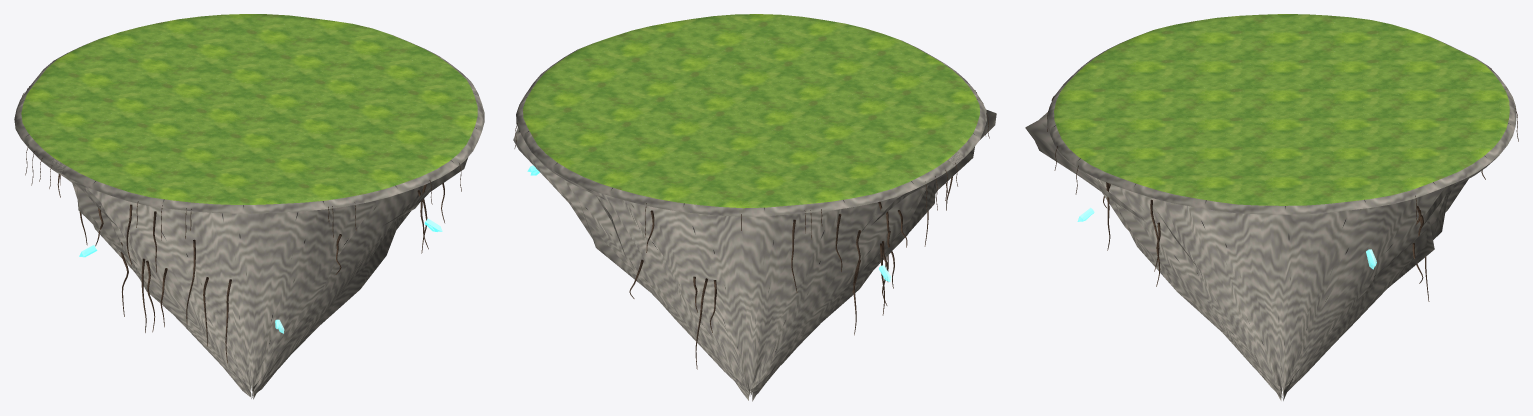
File: sky_platform_crystal.glb
3 renders of one model, left to right at view 1: azimuth 30°, elevation 25°; view 2: azimuth 150°, elevation 25°; view 3: azimuth 270°, elevation 25°, orthographic.
Visible parts, largest first — view 1: IslandTop-col, IslandRock, IslandRoots; view 2: IslandTop-col, IslandRock, IslandRoots; view 3: IslandTop-col, IslandRock, IslandRoots.
Part boxes in pixels (left/top/right/bottom): IslandTop-col: left=14, top=14, right=484, bottom=213; IslandRock: left=34, top=154, right=468, bottom=399; IslandRoots: left=22, top=86, right=461, bottom=363; IslandTop-col: left=516, top=14, right=986, bottom=216; IslandRock: left=513, top=109, right=996, bottom=401; IslandRoots: left=514, top=90, right=989, bottom=369; IslandTop-col: left=1047, top=14, right=1516, bottom=214; IslandRock: left=1025, top=112, right=1499, bottom=400; IslandRoots: left=1047, top=68, right=1518, bottom=301.
Bounding box in the file's own units: 57.19 × 39.24 × 60.08.
4 materials, 3 textured.
